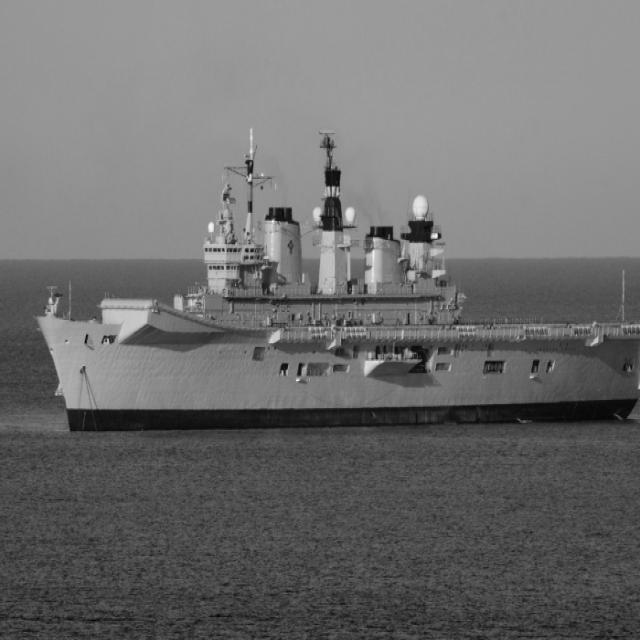Portanaves: (33, 122, 640, 439)
